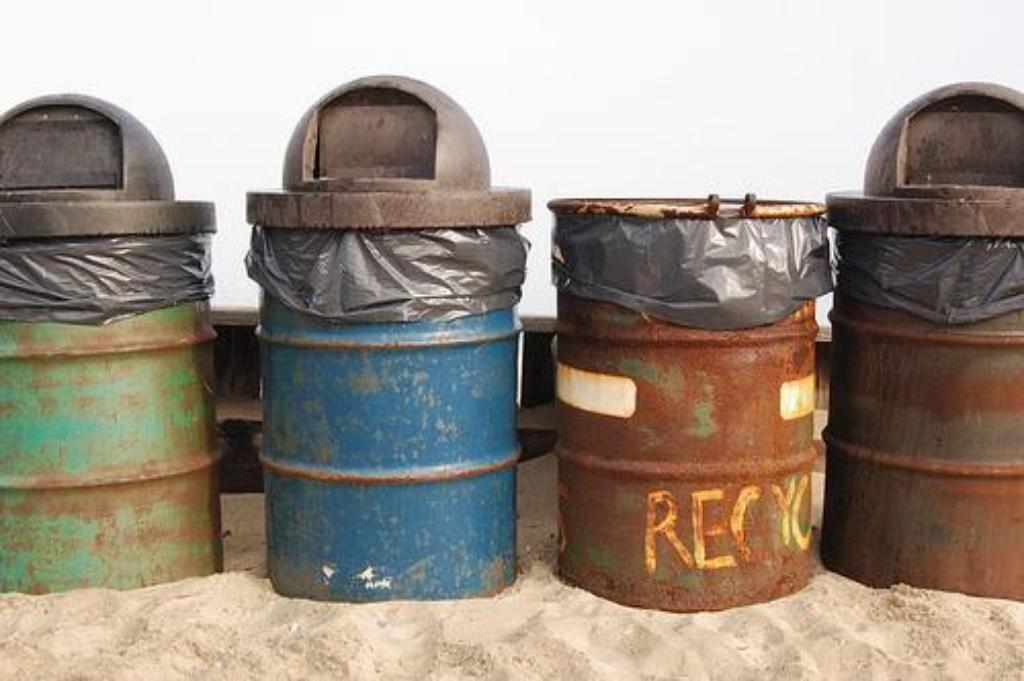dustbin: (246, 185, 530, 602), (547, 186, 838, 592), (1, 238, 232, 585)
